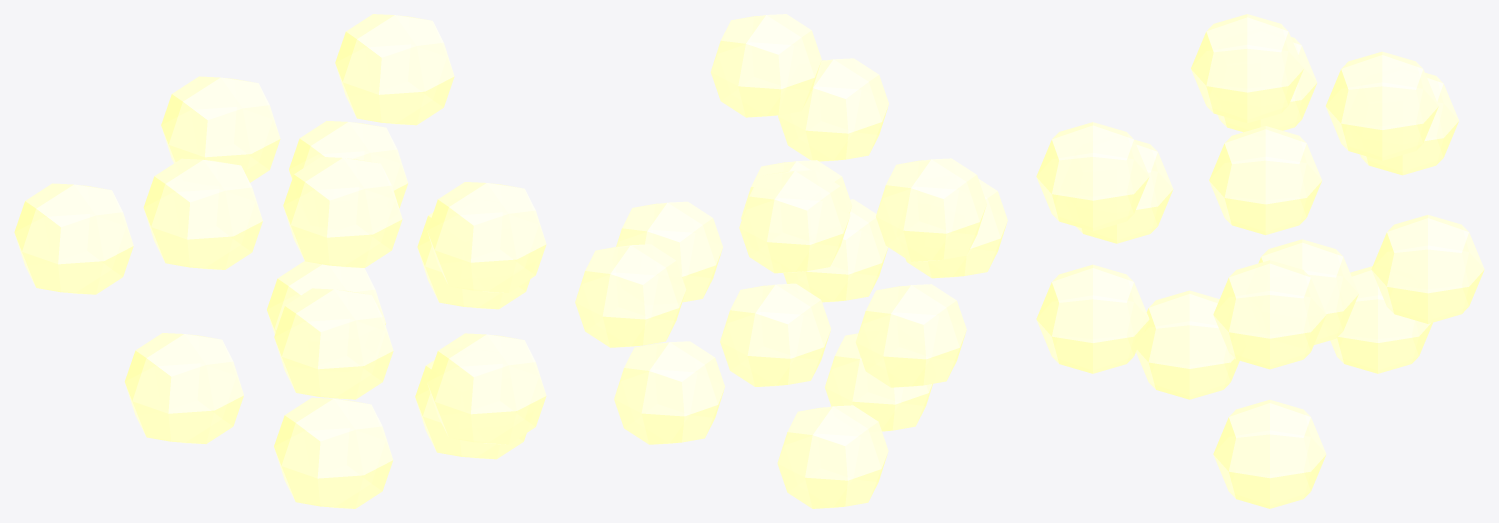
Rendered from Laong01.fbx.
3 renders of one model, left to right at view 1: azimuth 30°, elevation 25°; view 2: azimuth 150°, elevation 25°; view 3: azimuth 270°, elevation 25°, orthographic. The views are drawn at different scales.
Visible parts, largest first — view 1: Cube; view 2: Cube; view 3: Cube.
Boxes of the visible parts, x1=… form: Cube: x1=14, y1=14, x2=546, y2=508; Cube: x1=575, y1=14, x2=1007, y2=508; Cube: x1=1036, y1=14, x2=1484, y2=508.
Bounding box in the file's own units: 7.03 × 7.29 × 6.64.
